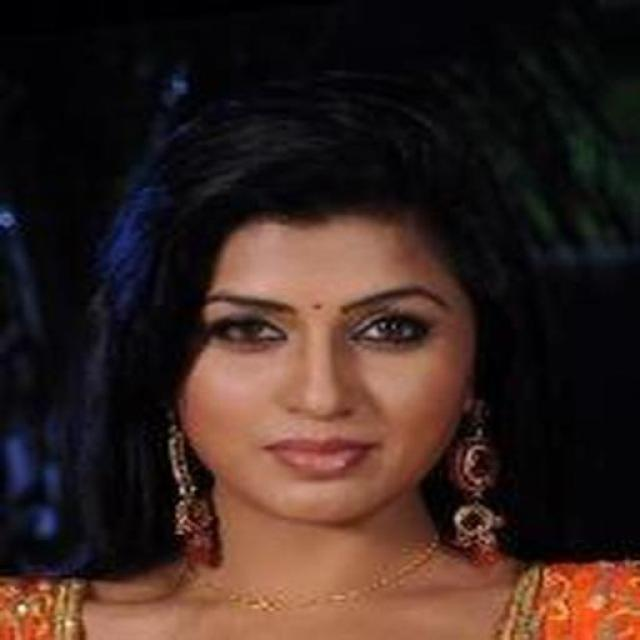bareface: (189, 222, 473, 522)
